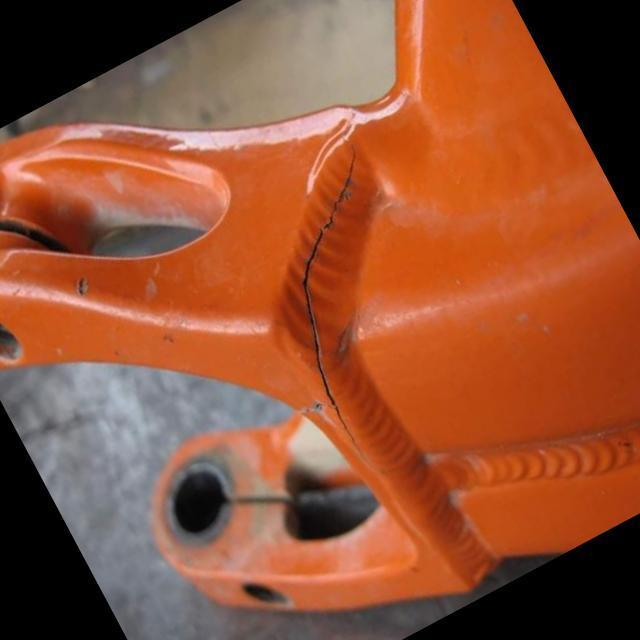defect: (294, 128, 386, 479)
